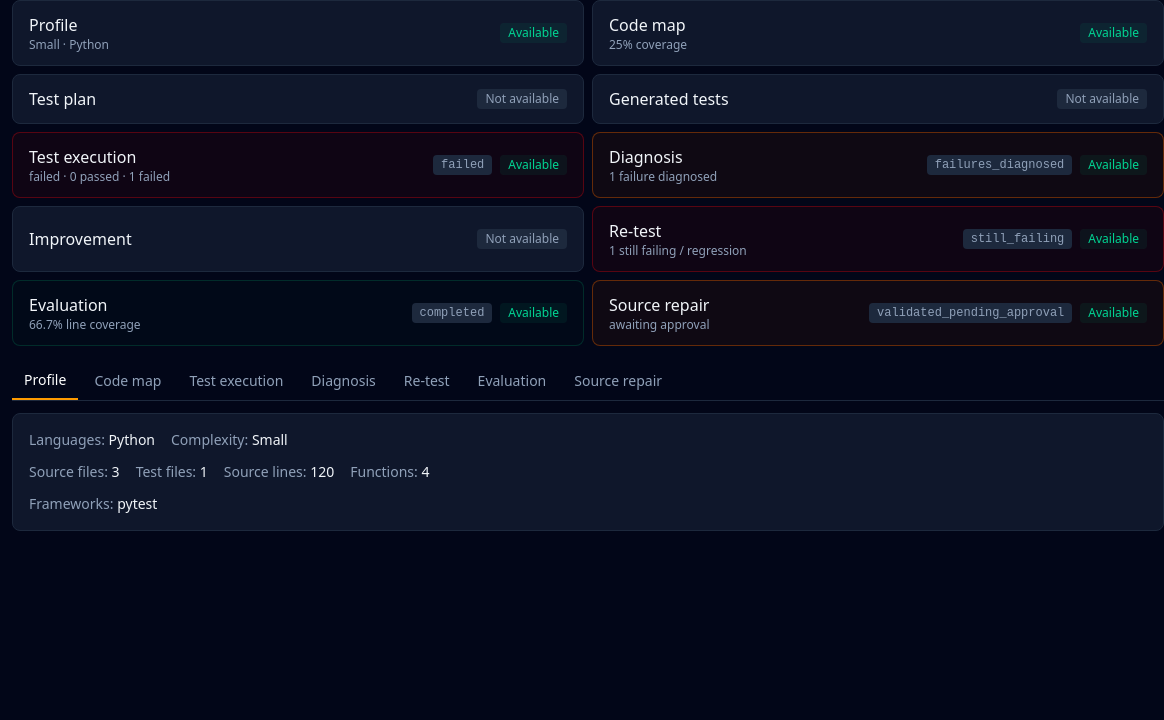
Test case: ArtifactsTabs › renders codemap details when available
This screenshot has width=1164, height=720.
Click the tab "Code map": [128, 381] box top-left (82, 362), bottom-right (173, 400)
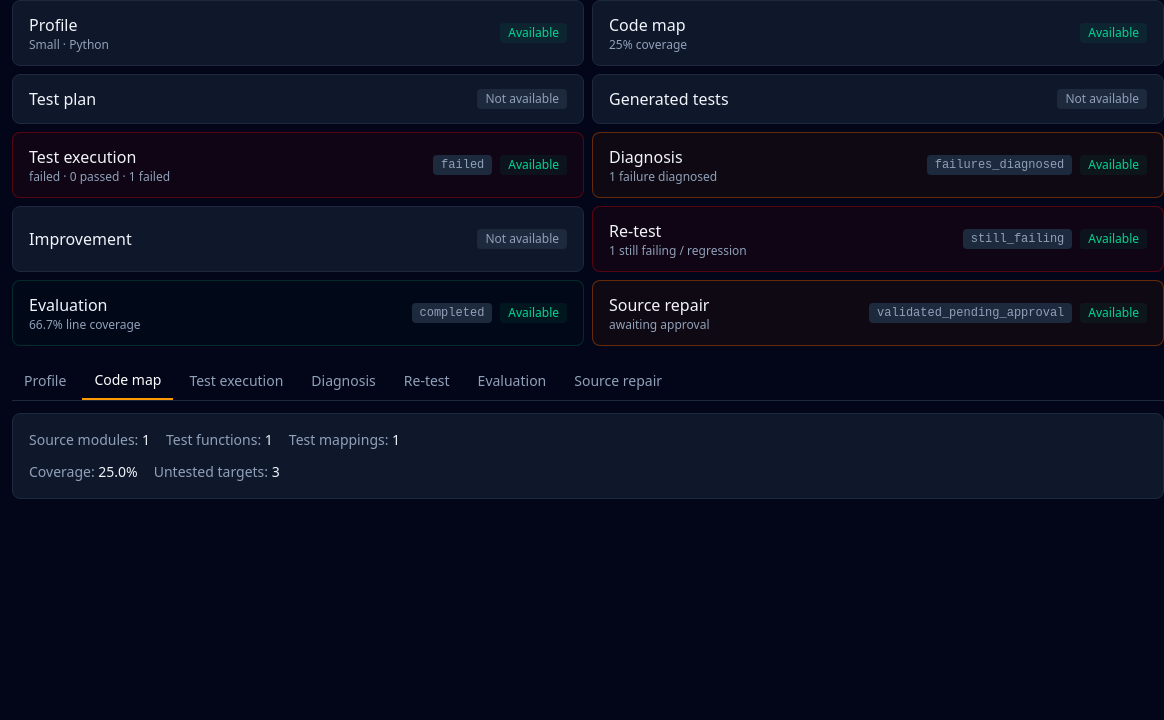
Check: the text "Source modules:" is shown, box top-left (29, 430), bottom-right (138, 449)
Check: the text "Coverage: 25.0%" is shown, box top-left (29, 462), bottom-right (138, 482)
